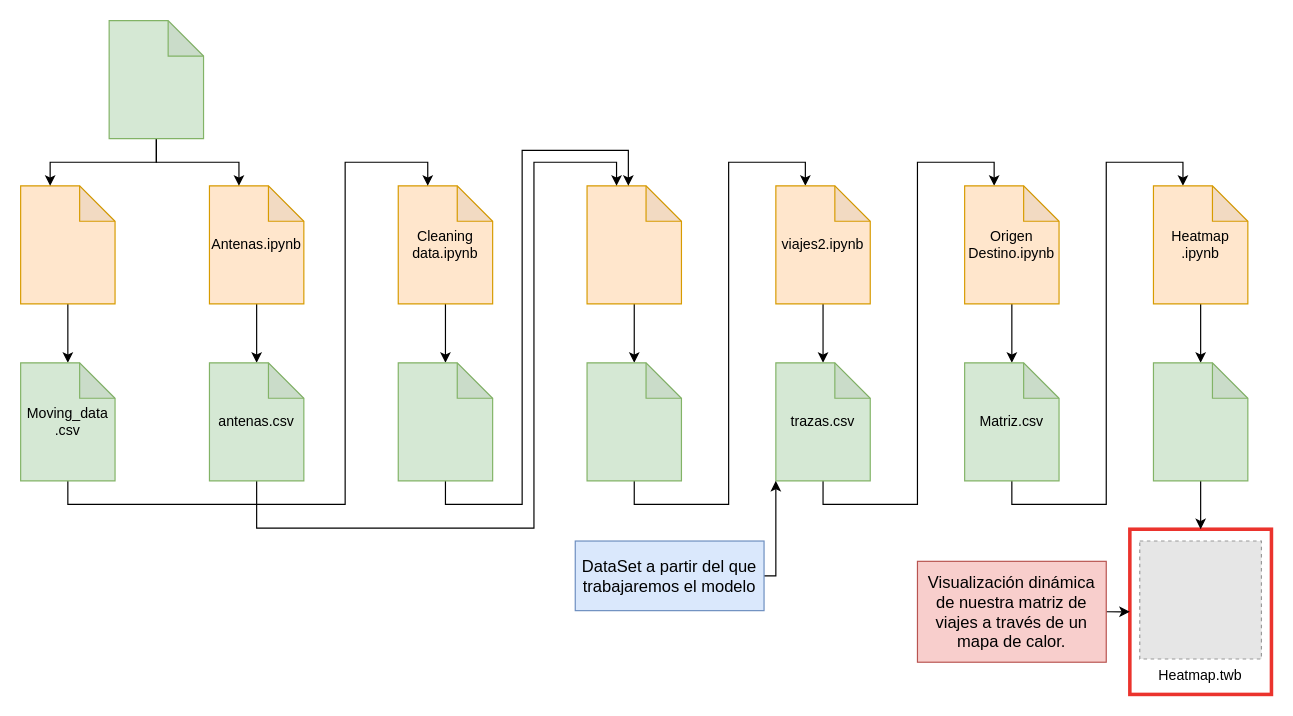
Image size: 1293x716. Some labels were removed from this diagram. Grey dashed boxes stand in for pictures. Each missing label, with the centre of its shape:
20210101_ RM.csv: point 156,79
heatmap.csv: point 1200,421
loreto_idea_ clean .csv: point 445,421
matriz_viajes _v2.csv: point 633,421
Merge data.ipynb: point 633,244
Not Moving.ipynb: point 67,244
